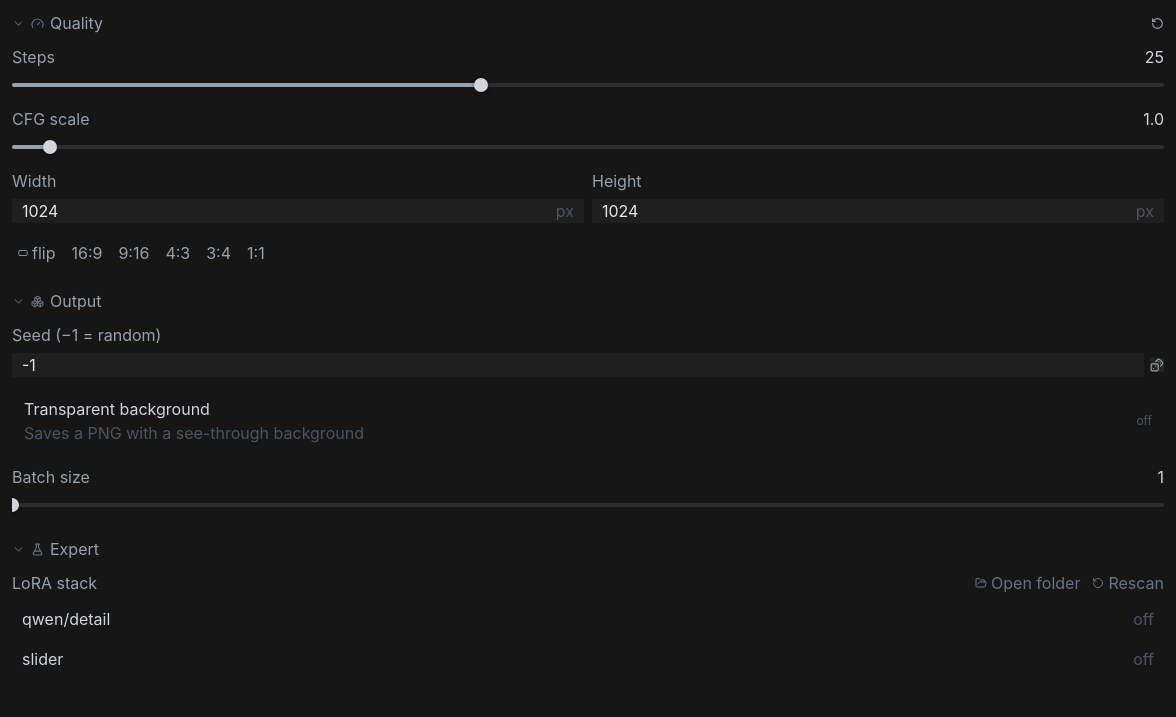
Scenario: the stack is handled as on Windows › tick adds in the order of the clicks, the strength is a number, untick removes
Click the button "slider off".
click(43, 659)  # box 12,641 -> 1164,677
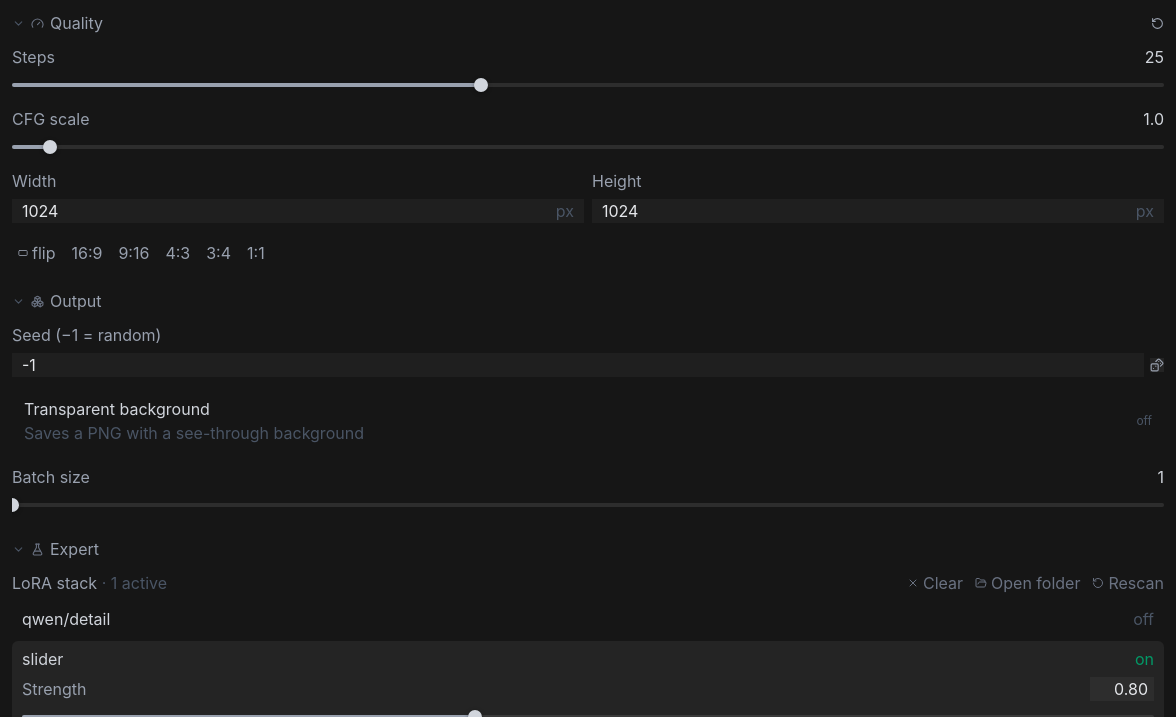
Click the button "qwen/detail off".
click(66, 619)  # box 12,601 -> 1164,637
(page scrolled)
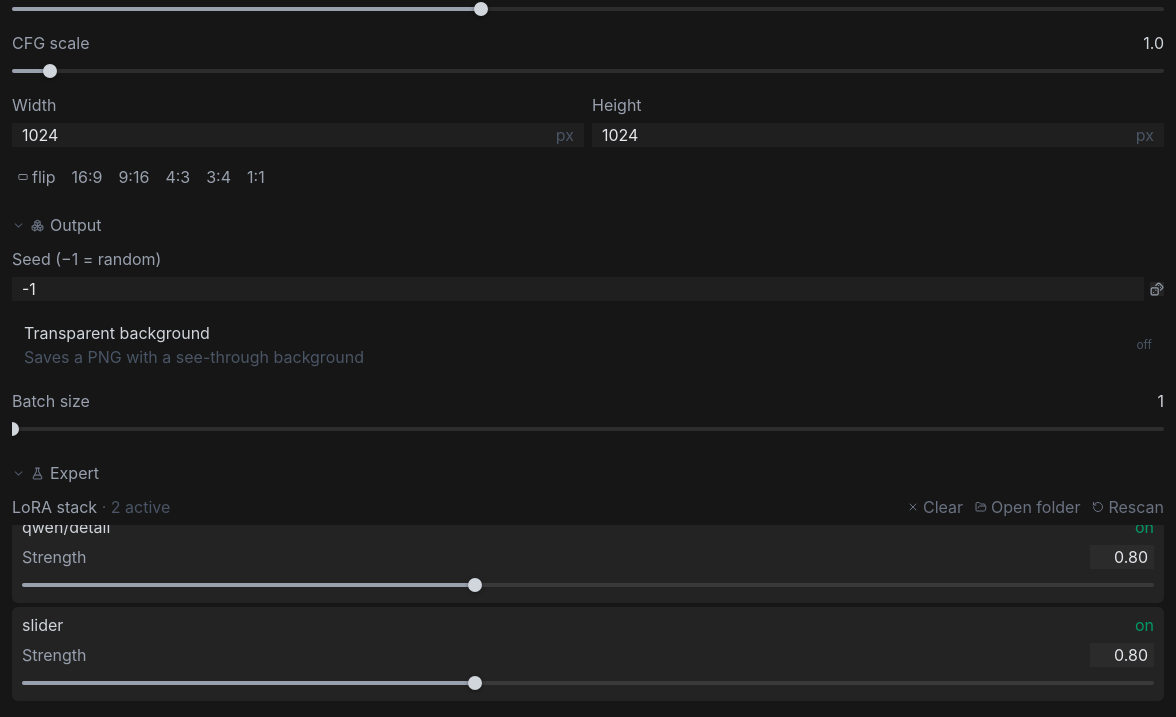
Expected: the text "· 2 active" is shown, 102,497 -> 170,517
Replace the text in the field named "Strength of slider" with "-4" at coordinates (1122, 655), box 1090,643 -> 1154,667
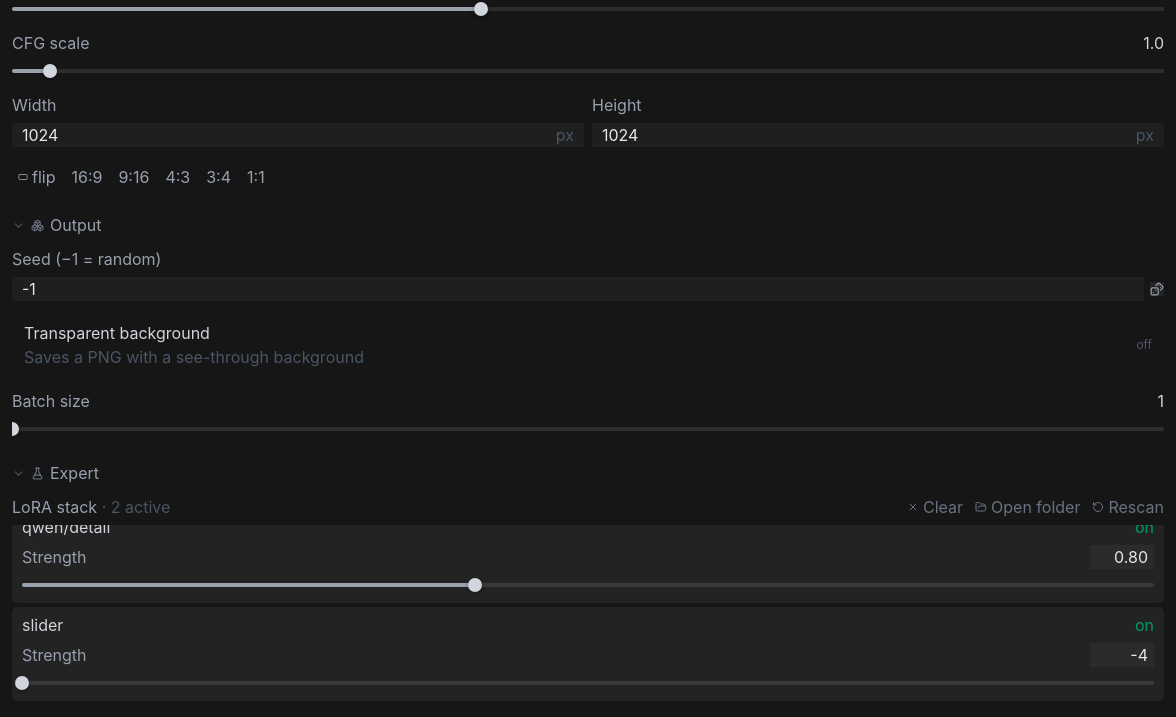
Leave the field named "Strength of slider", box 1090,643 -> 1154,667
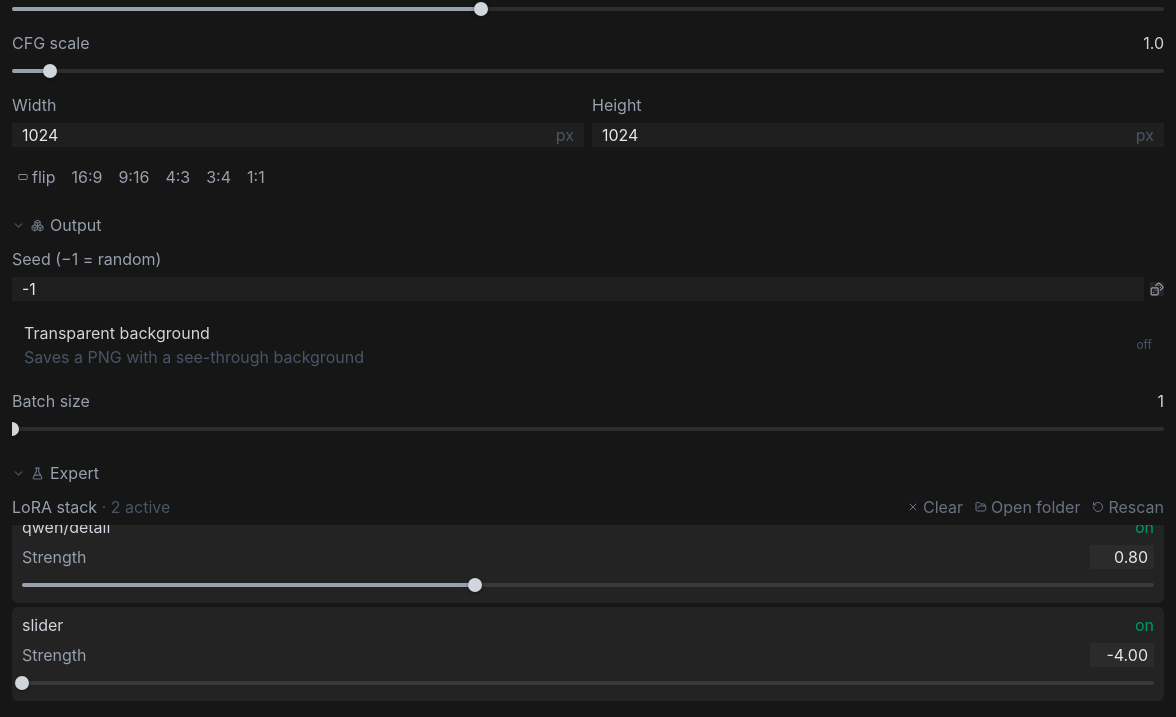
Expected: the field named "Strength of slider" holds "-4.00", 1090,643 -> 1154,667
Click the button "slider on".
click(43, 625)  # box 12,607 -> 1164,643
(page scrolled)
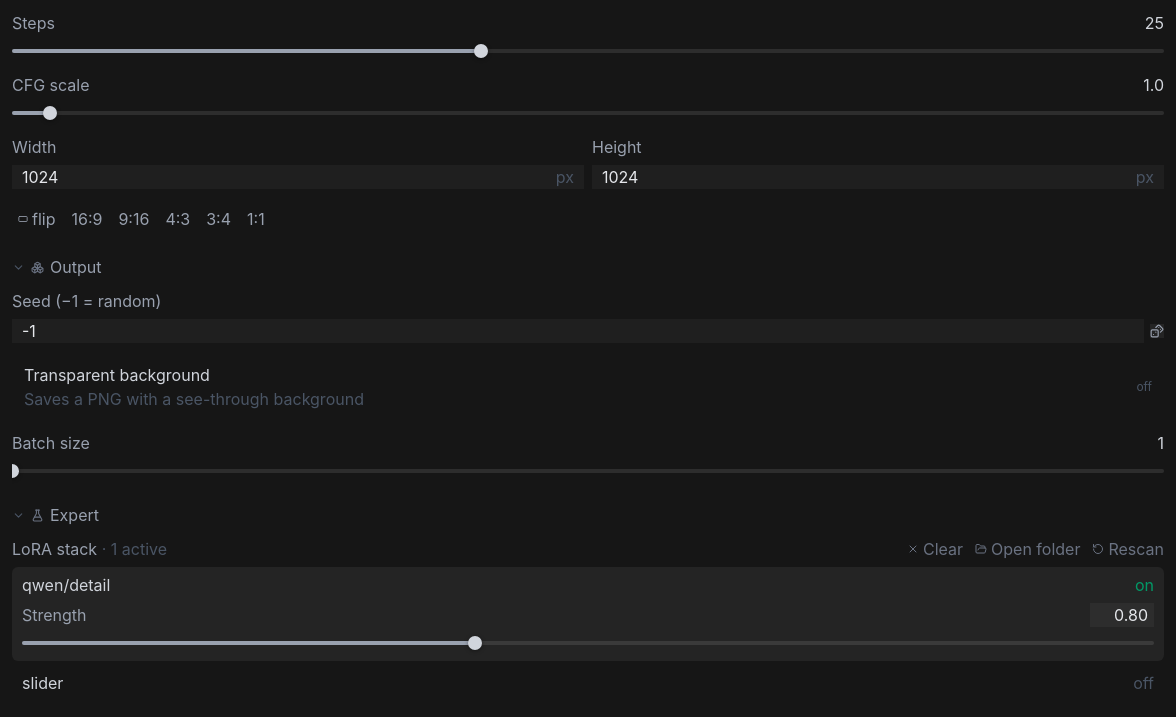
Expected: the text "· 1 active" is shown, 102,539 -> 167,559
Click the button "Clear".
click(935, 549)  # box 907,537 -> 963,561
(page scrolled)
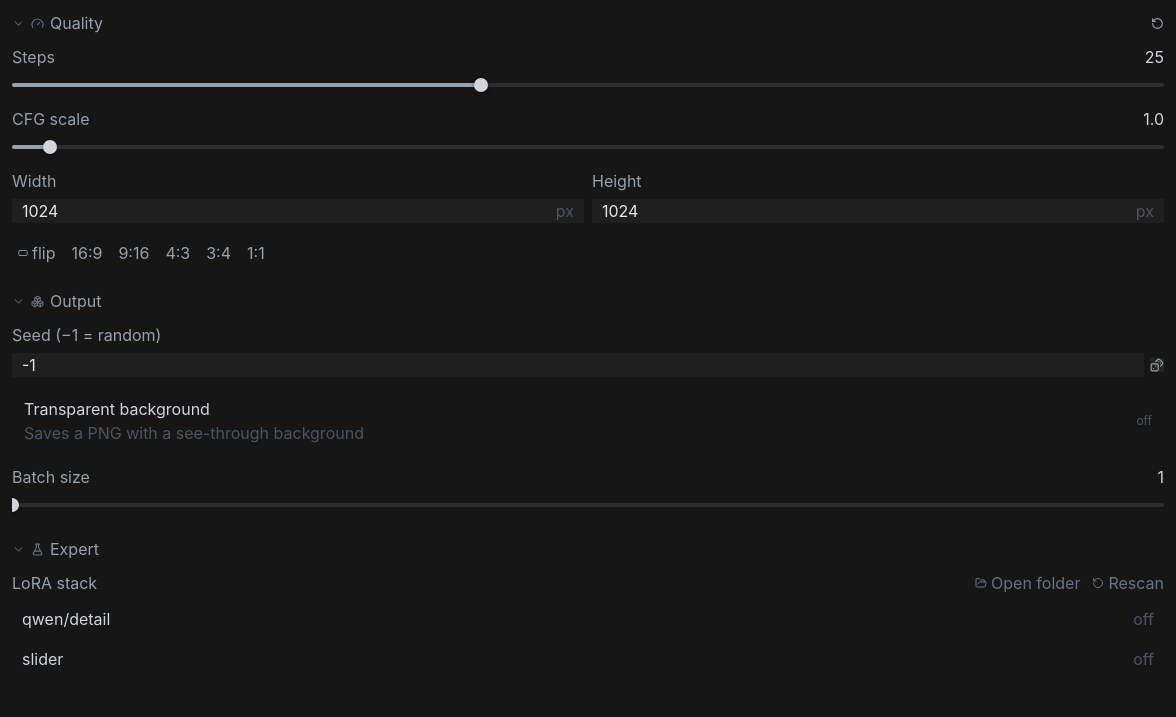
Expected: the text "active" is gone
